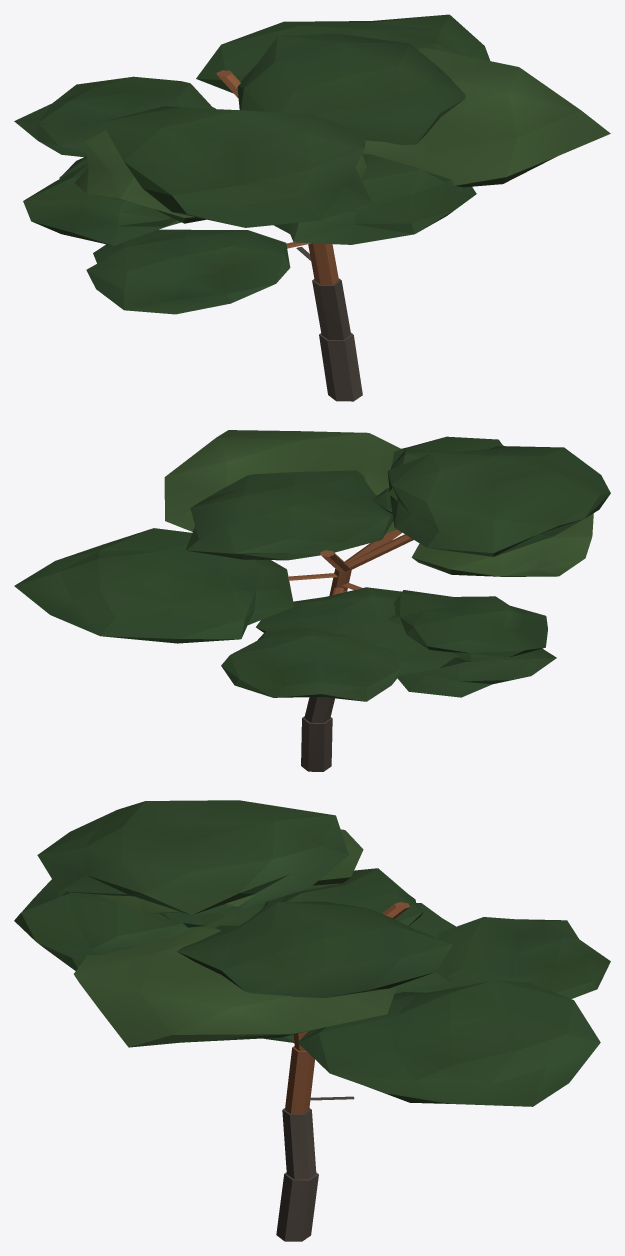
File: veg_tall_0.glb
3 renders of one model, top to bottom at view 1: azimuth 30°, elevation 25°; view 2: azimuth 150°, elevation 25°; view 3: azimuth 270°, elevation 25°, orthographic. The views are drawn at different scales.
Visible parts, largest first — view 1: geometry_0; view 2: geometry_0; view 3: geometry_0.
Part boxes in pixels (bbox=[...]): geometry_0: bbox=[14, 14, 610, 401]; geometry_0: bbox=[14, 430, 610, 771]; geometry_0: bbox=[14, 800, 610, 1241].
Size of the model in its own units: 1.67 by 1 by 1.69.
